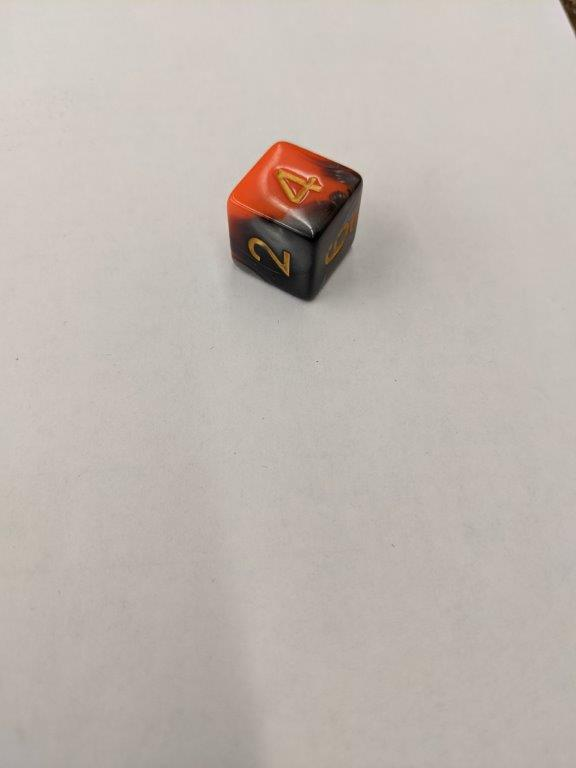d6-4: (225, 137, 365, 303)
